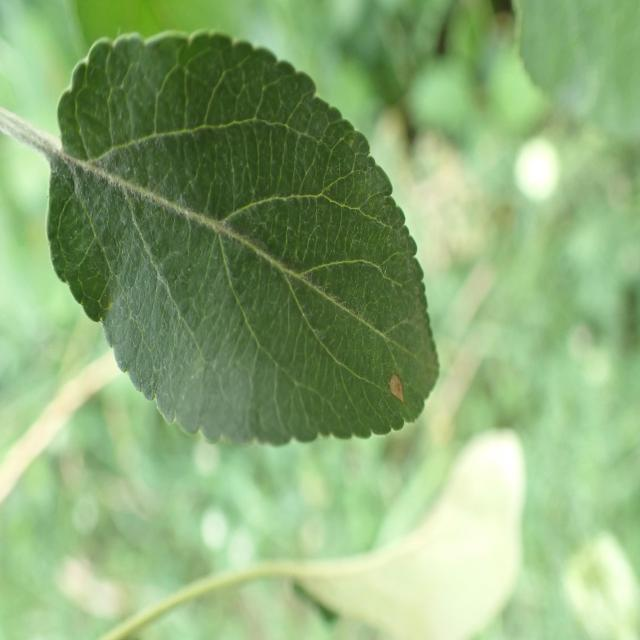Black Rot: (373, 366, 407, 430)
